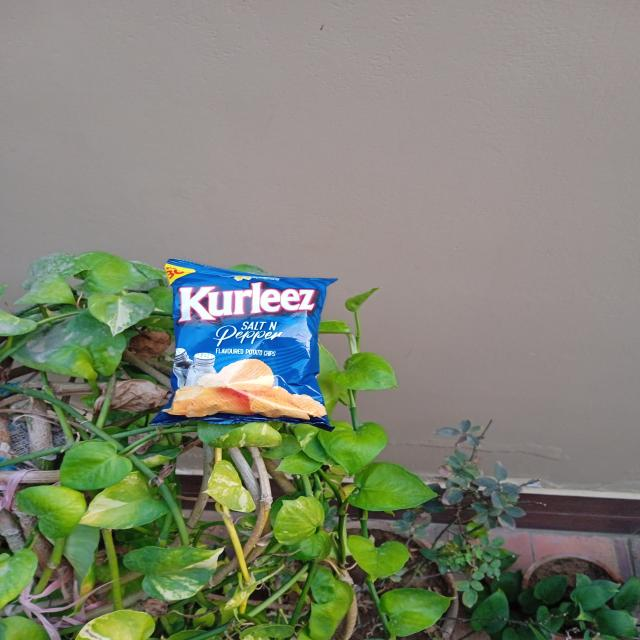Plastic: (157, 254, 336, 426)
